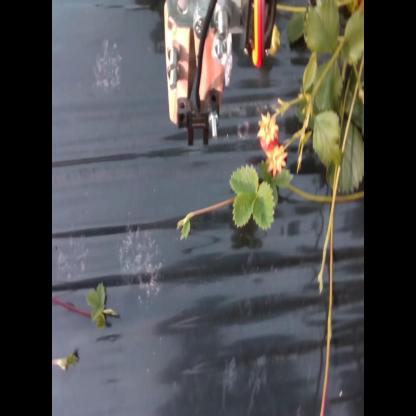ripe: (255, 114, 280, 157), (268, 140, 290, 177)
